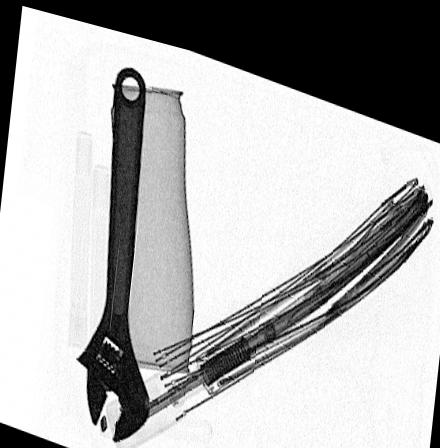Wrench: (72, 58, 148, 436)
